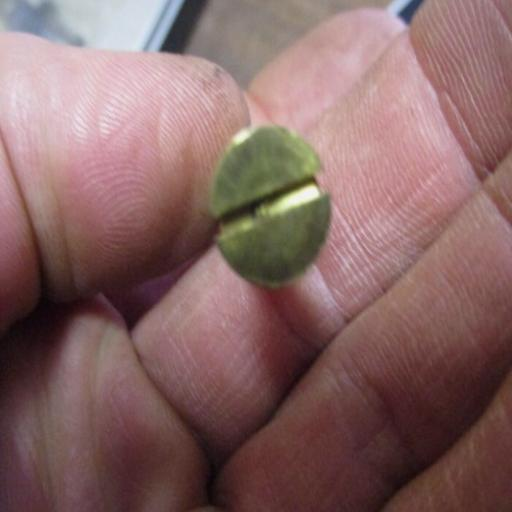Slotted: (214, 128, 332, 288)
